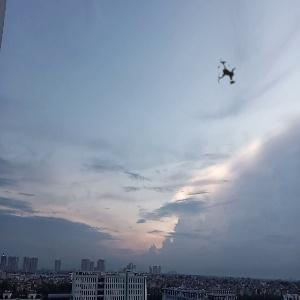drone: (202, 49, 253, 100)
